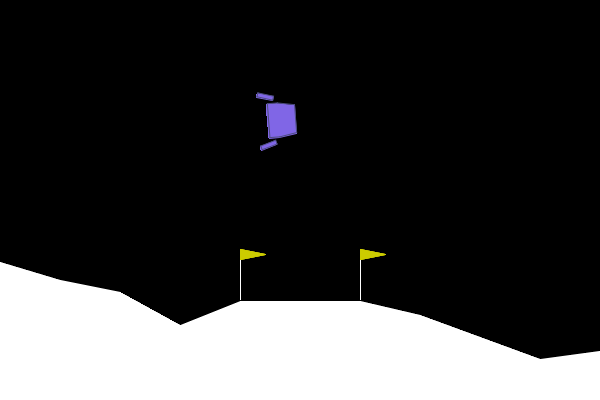lander: (255, 89, 299, 152)
